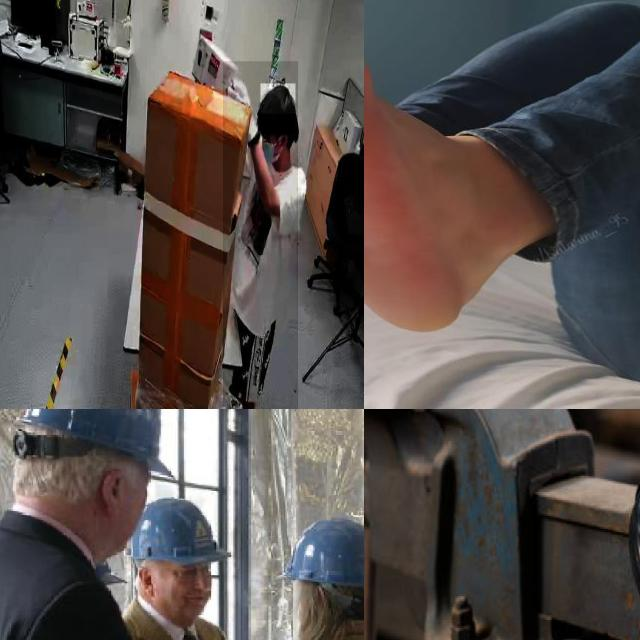Barefoots: (364, 0, 485, 342)
No_Ear-Protection: (102, 469, 125, 514), (137, 564, 158, 600)
No_Glasses: (172, 564, 211, 579)
face_mask: (259, 128, 283, 175)
face_nomask: (162, 578, 211, 622)
head_helmet: (21, 409, 172, 476), (131, 499, 229, 563), (285, 519, 364, 586)
head_nohelmet: (260, 84, 296, 115)
person: (223, 61, 298, 409)
